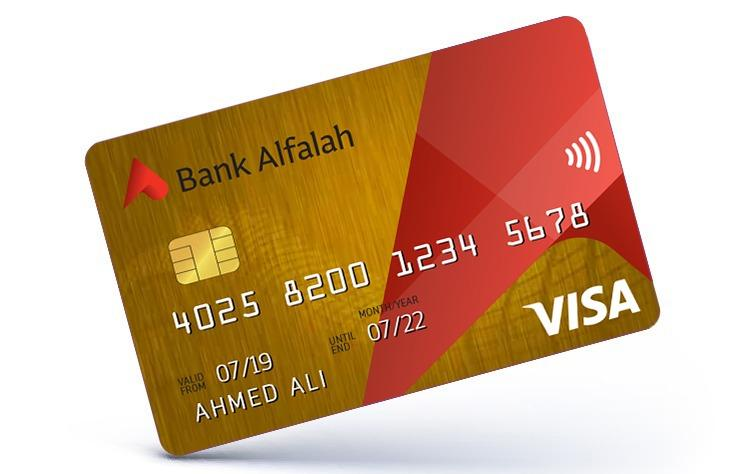Credit_card: (87, 17, 659, 453)
